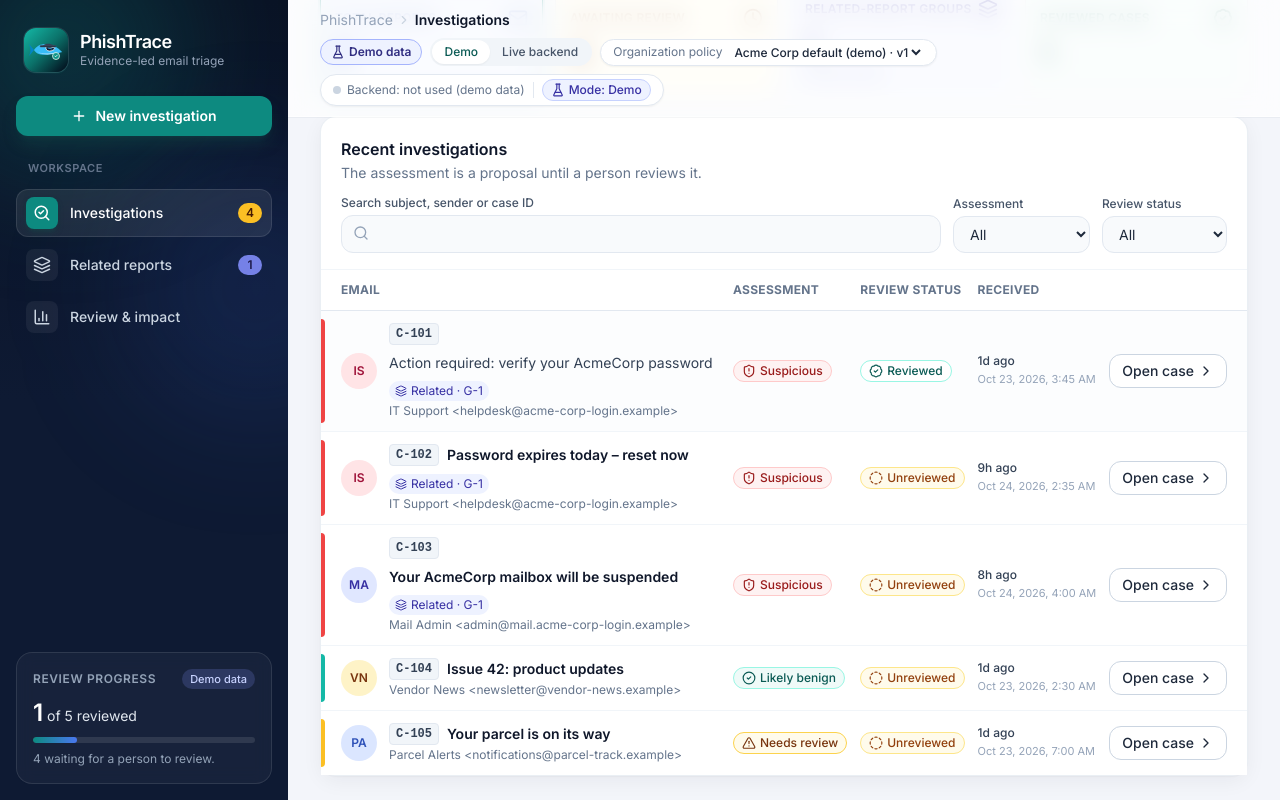
Test: case details › has no Compare tab or prompt for an unrelated case
The image size is (1280, 800).
(page scrolled)
Click the 4th button "Open case" at (1168, 678), box x1=1109 y1=661 x2=1227 y2=695
(page scrolled)
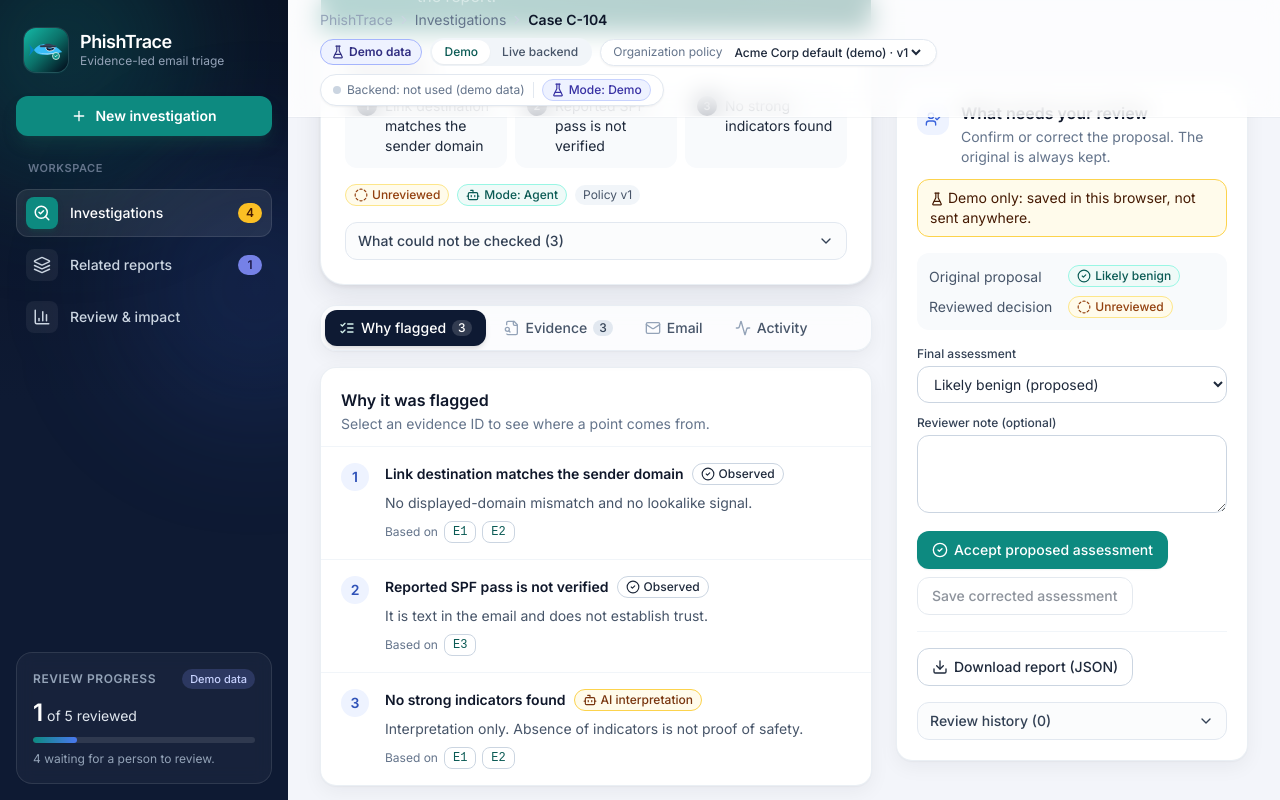
Now the heading "Why it was flagged" is shown, box x1=341 y1=390 x2=489 y2=410
